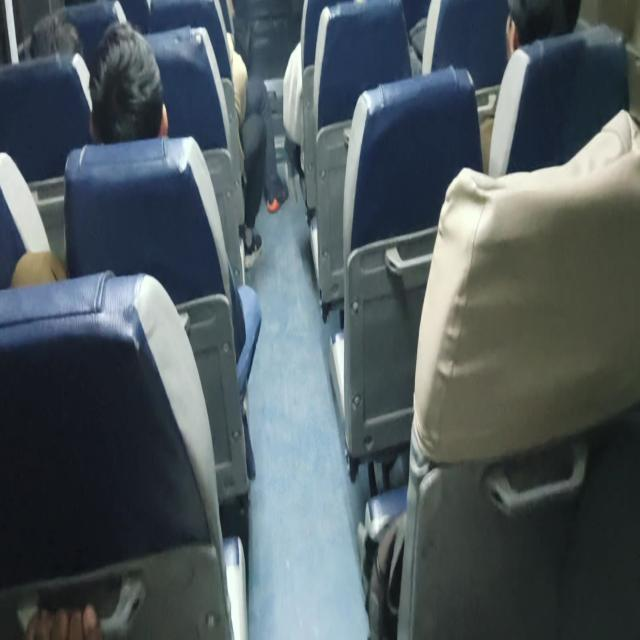person: (87, 36, 179, 143), (497, 0, 576, 49), (18, 4, 80, 58)
